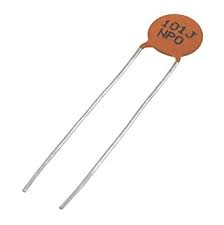ceramic capacitor: (130, 9, 209, 97)
